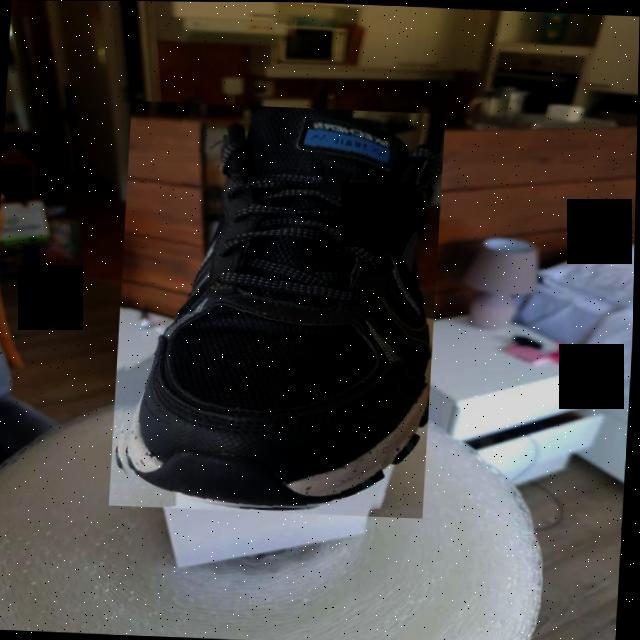shoe: (111, 100, 446, 518)
